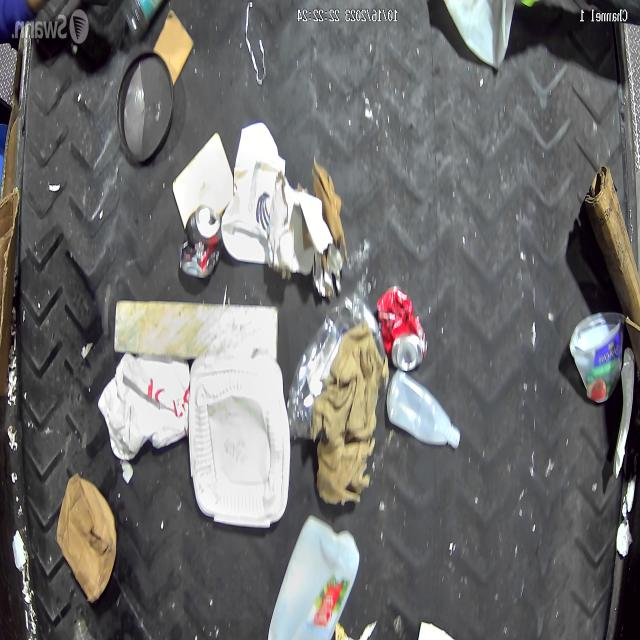can: (378, 284, 427, 370), (180, 203, 224, 279)
non_white_jug: (269, 514, 361, 638)
plastic_bottle: (287, 295, 375, 436)
